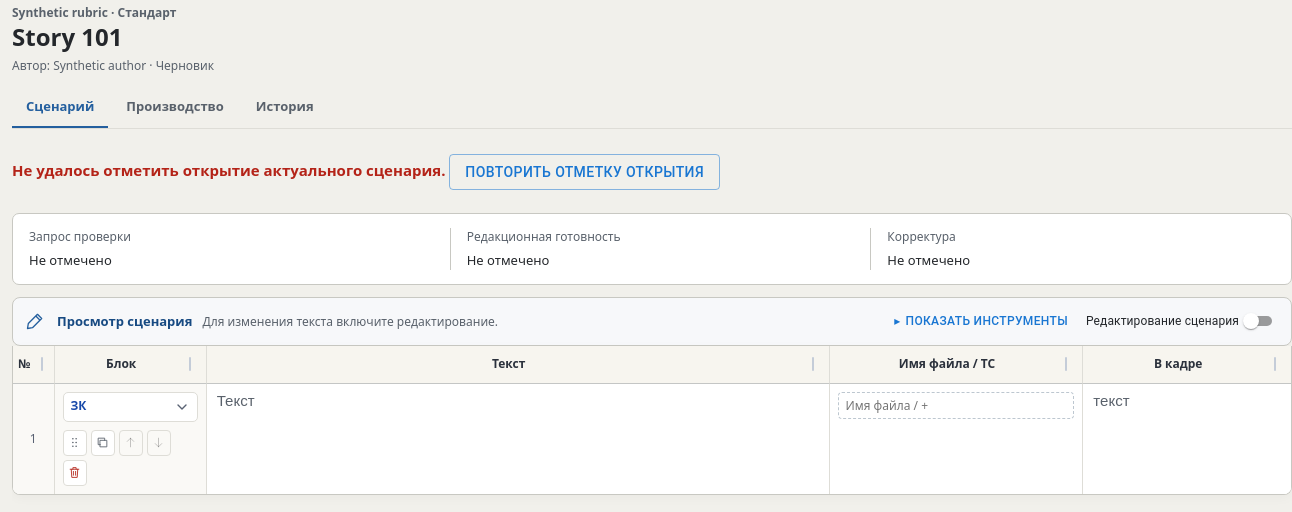
Test: StoryScenarioPage lease handoff › retries only a production context whose opened marker failed
Expected: the message shows "Не удалось отметить открытие актуального сценария", left=12, top=160, right=446, bottom=180
Click the button "Повторить отметку открытия". click: (585, 172)
box: left=449, top=154, right=720, bottom=190
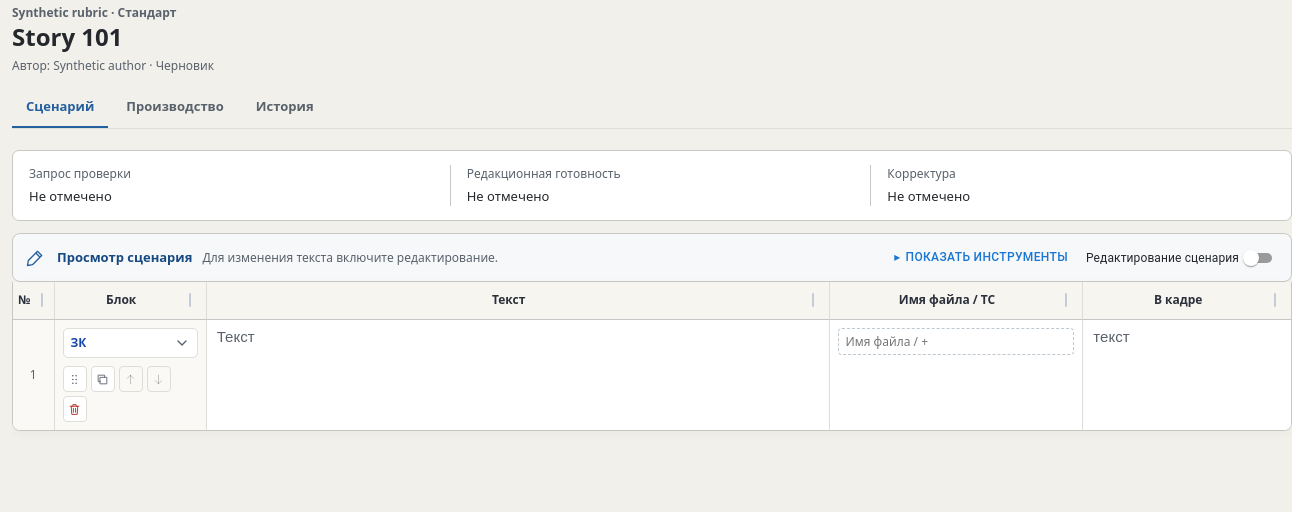
Now the message "Не удалось отметить открытие актуального сценария. Повторить отметку открытия" is gone
